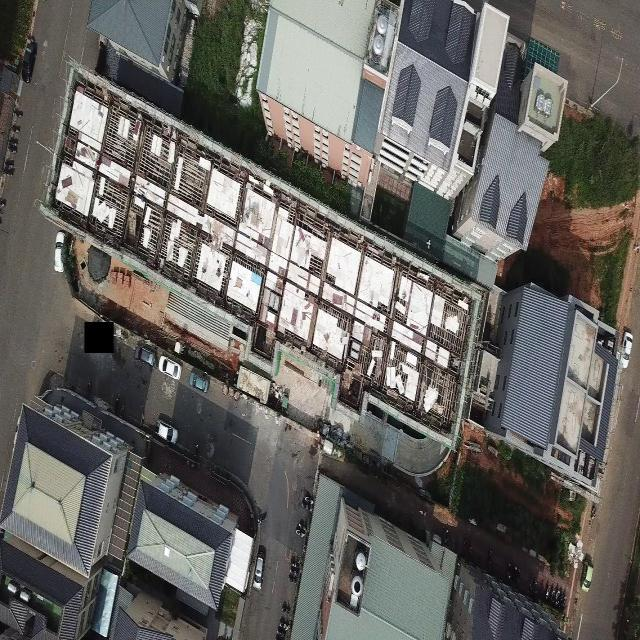bike: (279, 620, 289, 632), (1, 168, 14, 177), (13, 109, 23, 119), (9, 135, 17, 146), (8, 144, 16, 155), (297, 522, 306, 531), (289, 568, 298, 577), (290, 561, 299, 570), (305, 495, 313, 505), (278, 627, 286, 637), (10, 125, 20, 133), (296, 528, 304, 537), (282, 605, 290, 614), (288, 576, 296, 585), (4, 159, 13, 167), (418, 508, 426, 517)
car: (20, 42, 36, 84), (157, 416, 179, 444), (53, 230, 67, 274), (620, 330, 634, 371), (160, 355, 182, 379), (253, 547, 265, 591), (581, 558, 594, 598), (134, 344, 156, 366), (188, 370, 209, 392)
